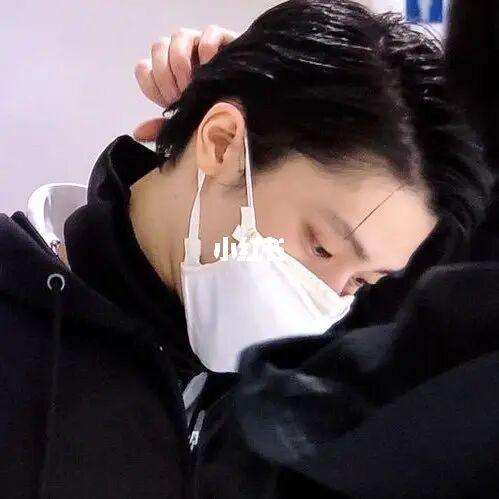mask: (161, 65, 444, 377)
